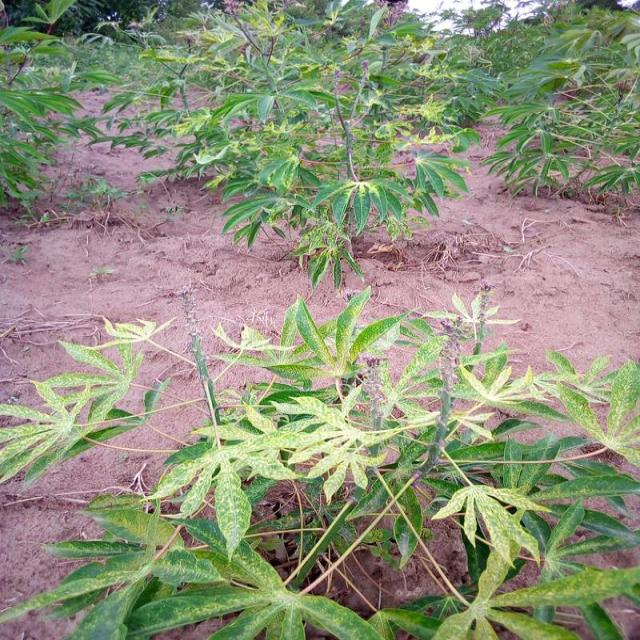cassava leaf: (1, 285, 638, 638)
